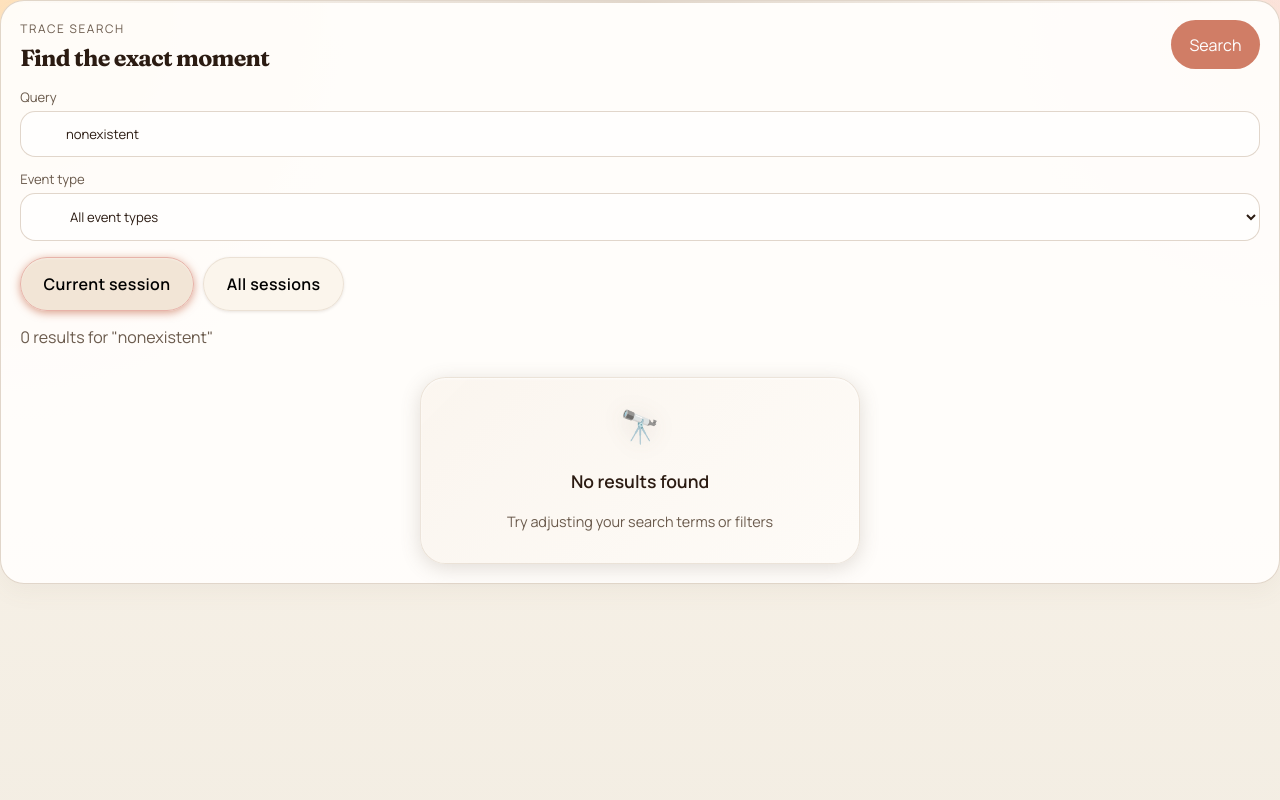
Test: SearchPanel › shows search results after successful search
Type in search input
In the field with placeholder "Belgrade, missing token, critic turn...": coordinates (640, 134) [20, 111, 1260, 157], type "search"
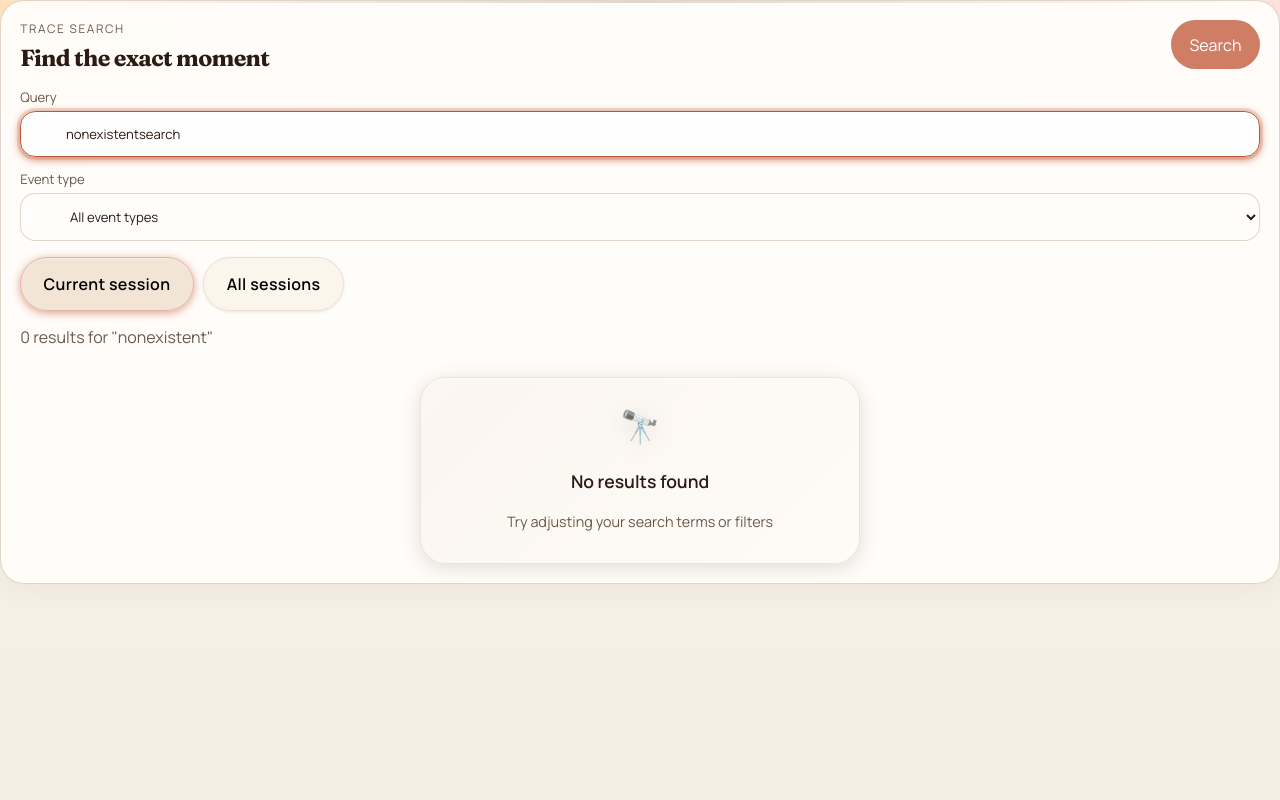
Click search button
Click the button "Search": coordinates (1215, 45) [1171, 20, 1260, 69]
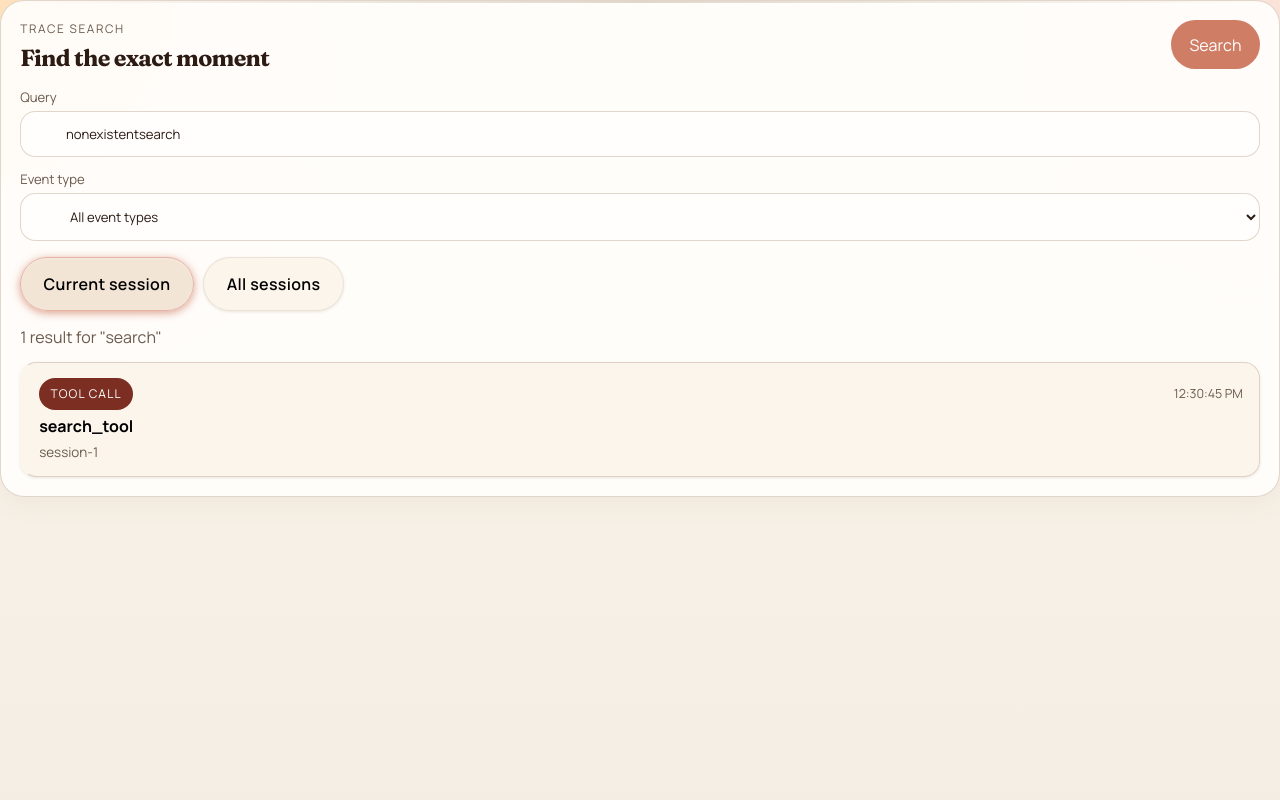
Result: the text "1 result for \"search\"" is shown at [20, 326, 162, 348]
